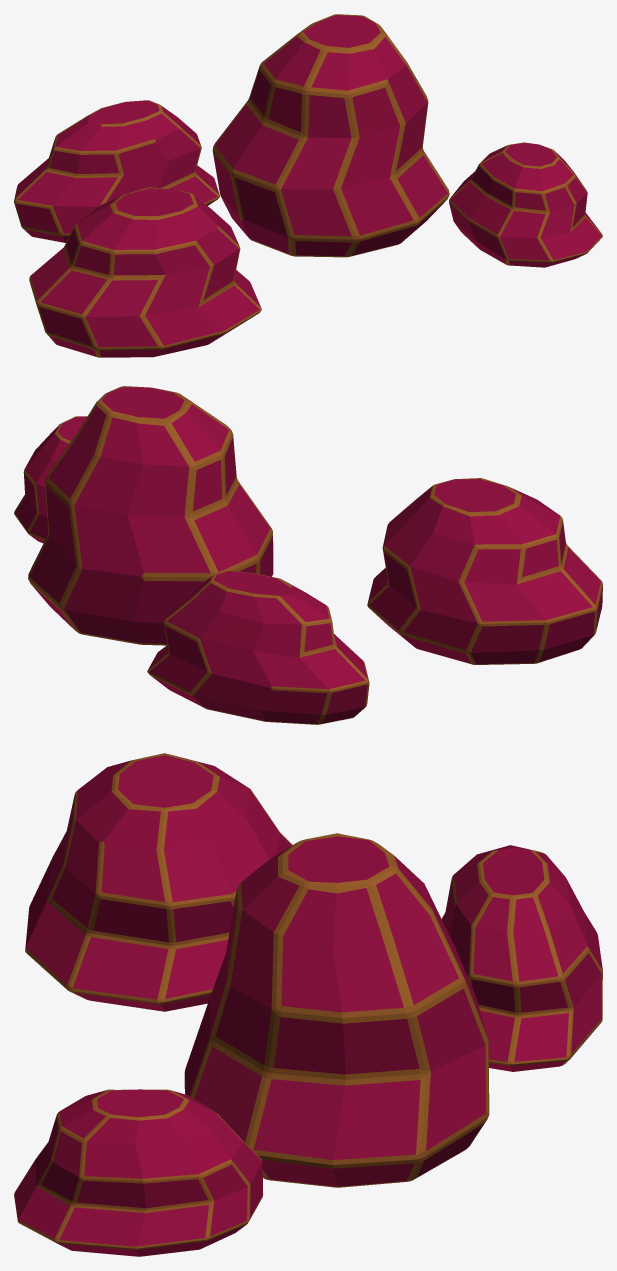
The model's file is SM_RV_Rubble.fbx.
The picture shows the model from 3 angles, top to bottom: view 1: azimuth 30°, elevation 25°; view 2: azimuth 150°, elevation 25°; view 3: azimuth 270°, elevation 25°; orthographic projection. The views are drawn at different scales.
Visible parts, largest first — view 1: SM_RV_Rubble; view 2: SM_RV_Rubble; view 3: SM_RV_Rubble.
Boxes of the visible parts, <box> form: SM_RV_Rubble: <box>14,14,602,357</box>; SM_RV_Rubble: <box>14,386,602,724</box>; SM_RV_Rubble: <box>14,753,602,1256</box>.
Size of the model in its own units: 184 by 289 by 96.86.
